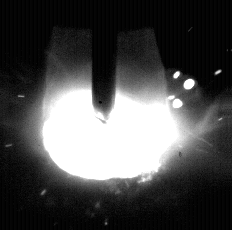arame: (92, 0, 117, 120)
poca: (41, 0, 180, 230)
